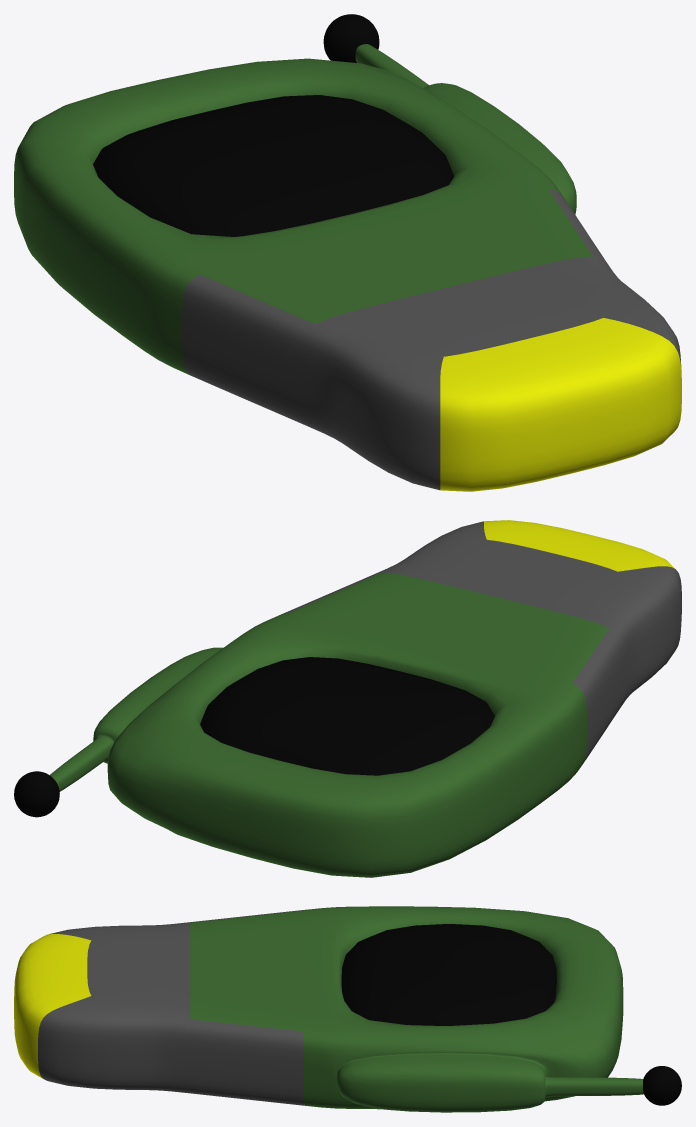
The model's file is Radar.fbx.
3 views of the same model, one above another, from view 1: azimuth 30°, elevation 25°; view 2: azimuth 150°, elevation 25°; view 3: azimuth 270°, elevation 25° (orthographic). The views are drawn at different scales.
Visible parts, largest first — view 1: Cube.002, Sphere; view 2: Cube.002, Sphere; view 3: Cube.002, Sphere.
Boxes of the visible parts, <box> form: Cube.002: <box>14,44,681,491</box>; Sphere: <box>323,14,379,62</box>; Cube.002: <box>50,520,681,877</box>; Sphere: <box>14,771,59,817</box>; Cube.002: <box>14,906,643,1112</box>; Sphere: <box>643,1066,681,1105</box>.
Size of the model in its own units: 13.58 by 3.52 by 24.26.
